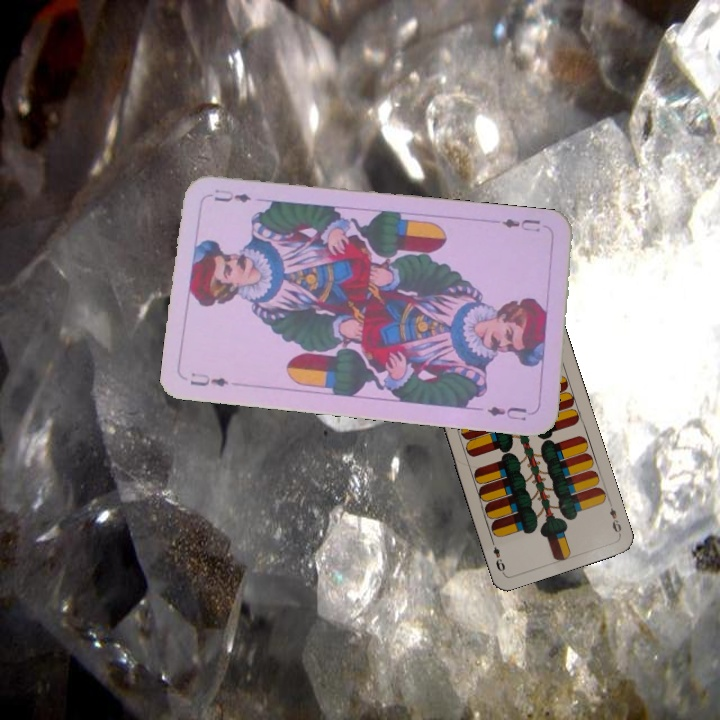E9: (605, 498, 624, 537)
EU: (186, 368, 232, 390), (498, 215, 543, 235)
